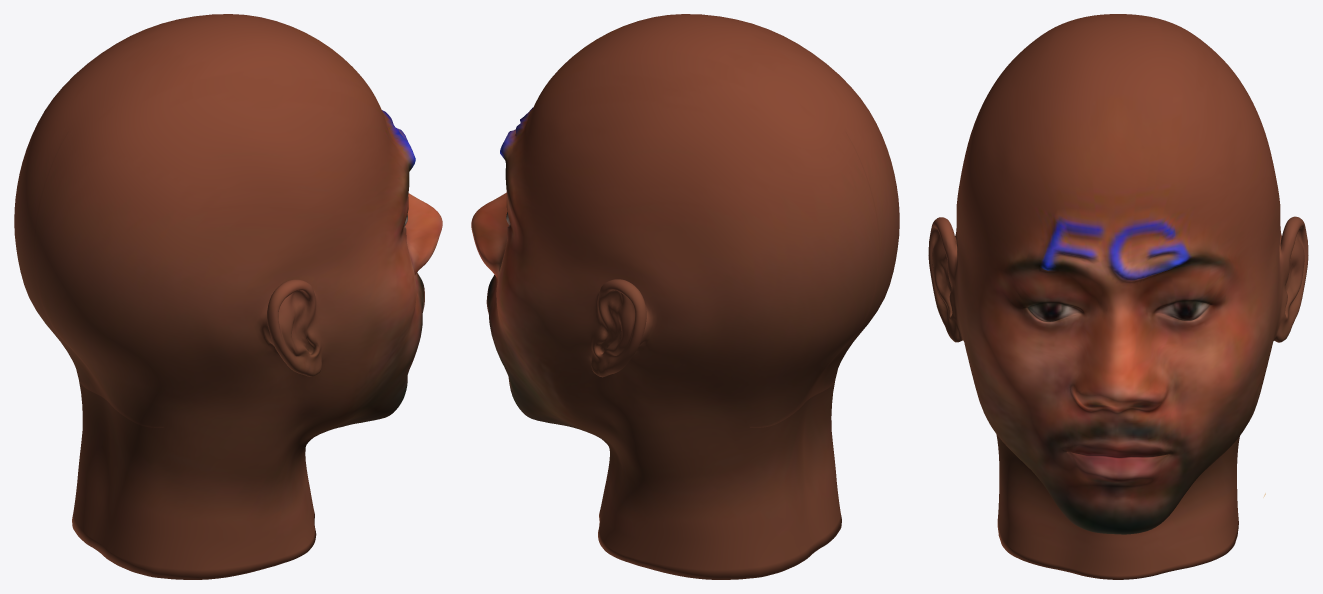
File: Kawai.glb
The picture shows the model from 3 angles, left to right: view 1: azimuth 30°, elevation 25°; view 2: azimuth 150°, elevation 25°; view 3: azimuth 270°, elevation 25°; orthographic projection.
Parts seen in each view (by area): view 1: head; view 2: head; view 3: head.
Boxes of the visible parts, x1,y1,x2,y2 form: head: (14,14,442,579); head: (471,14,899,579); head: (928,14,1308,579).
Size of the model in its own units: 0.2373 by 0.2763 by 0.1914.
Materials: 2 (1 with a texture image).
